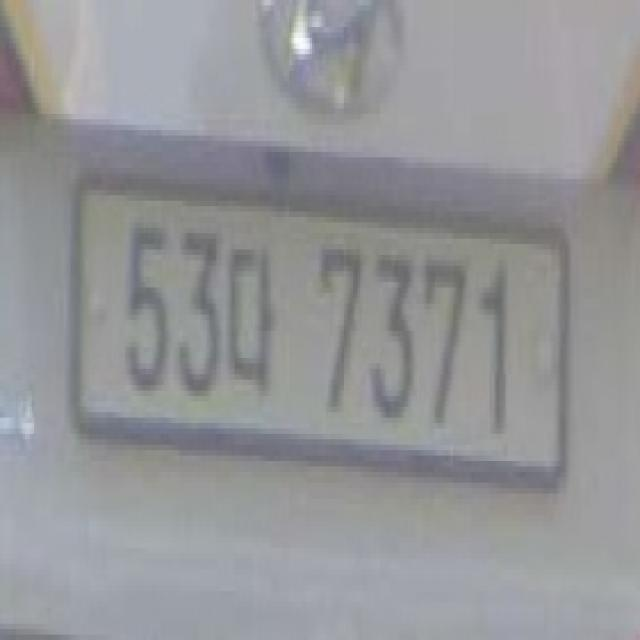1: (467, 244, 521, 450)
3: (371, 228, 417, 445), (176, 222, 223, 402)
5: (116, 228, 176, 396)
7: (412, 250, 474, 428), (316, 228, 360, 439)
da: (226, 222, 280, 412)
license_plate: (59, 152, 570, 510)
